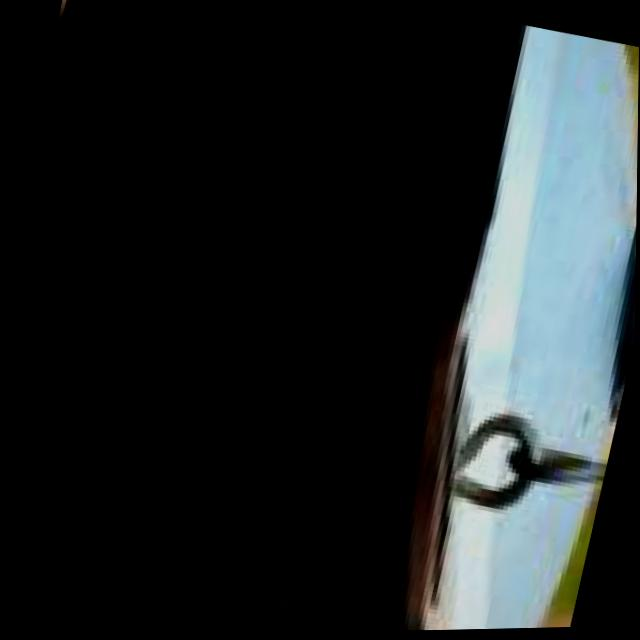fire: (0, 334, 142, 600)
